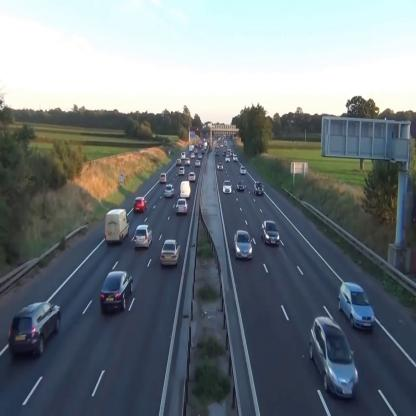car: (309, 317, 359, 400), (9, 301, 61, 358), (337, 283, 374, 331), (100, 272, 134, 314), (160, 238, 180, 268), (234, 230, 252, 260), (260, 220, 280, 247), (134, 224, 152, 248), (176, 198, 188, 215), (133, 197, 147, 211), (253, 180, 265, 195), (164, 184, 175, 197), (223, 180, 232, 194), (236, 180, 244, 190), (160, 172, 167, 183), (189, 172, 196, 182), (178, 166, 185, 175), (217, 162, 224, 170), (240, 165, 246, 174), (185, 157, 190, 166), (177, 158, 182, 166), (195, 159, 200, 166), (181, 152, 185, 160)
lorry: (105, 209, 129, 243), (180, 180, 191, 199)
